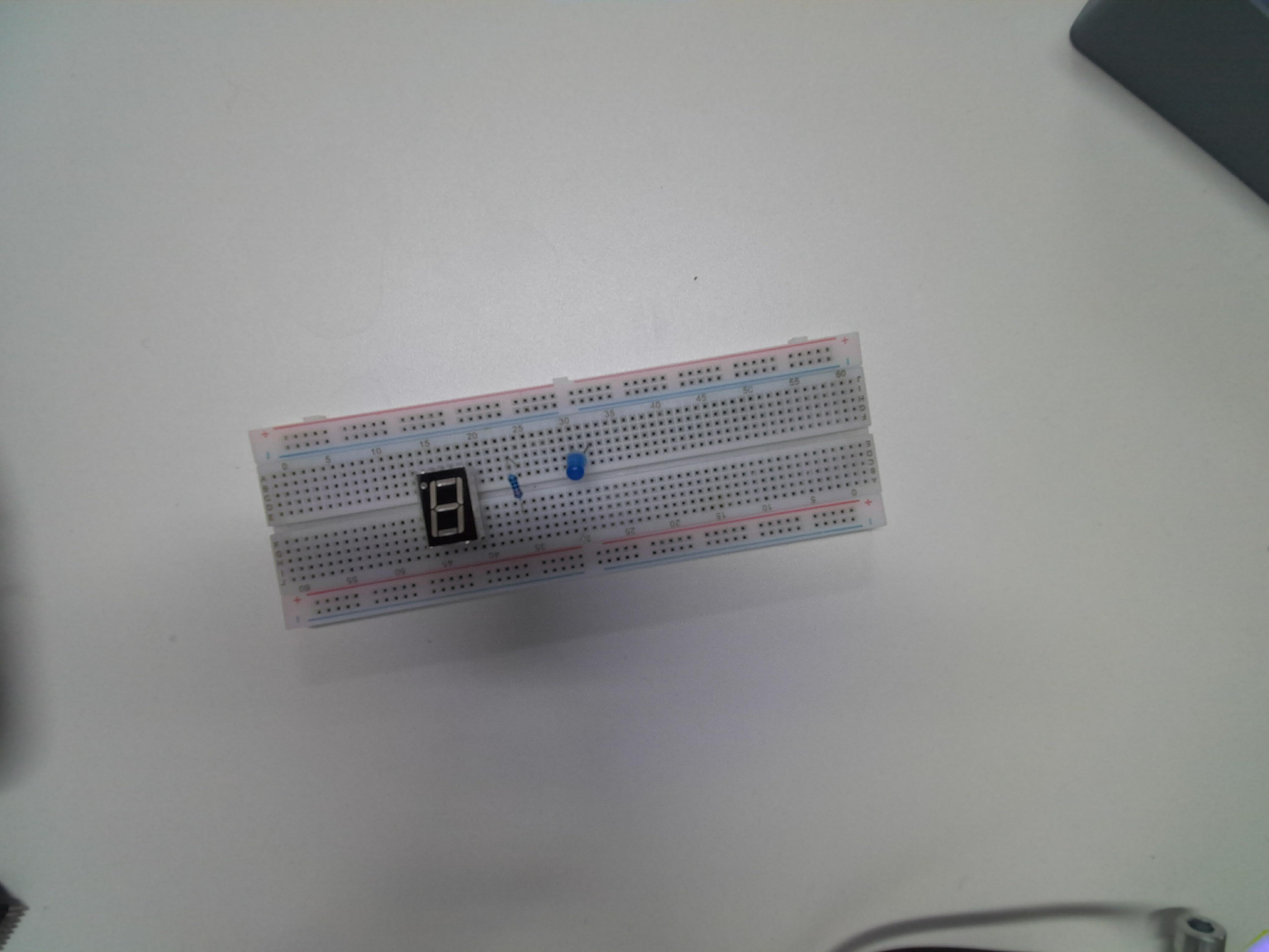base: (247, 331, 891, 633)
blue-led: (566, 450, 587, 481)
digit-board: (417, 466, 481, 547)
resistor-small: (503, 469, 525, 504)
